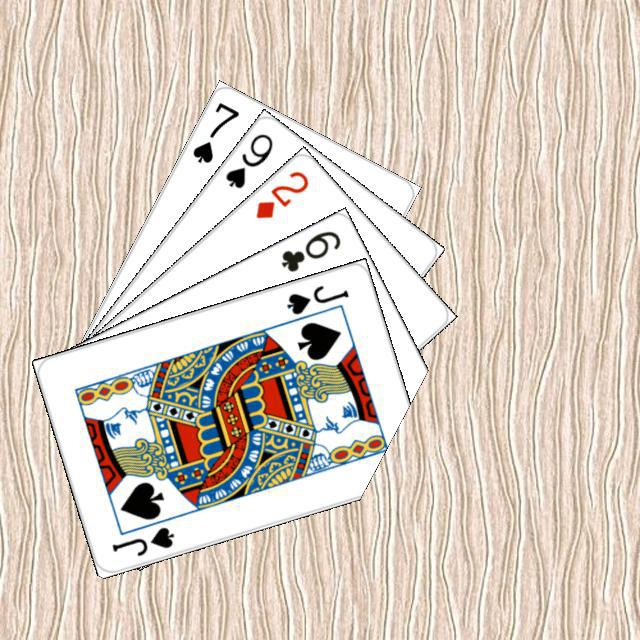2d: (250, 165, 311, 221)
6c: (276, 226, 343, 274)
7s: (187, 97, 241, 165)
9s: (220, 128, 275, 190)
Js: (282, 280, 351, 317), (107, 522, 176, 558)
